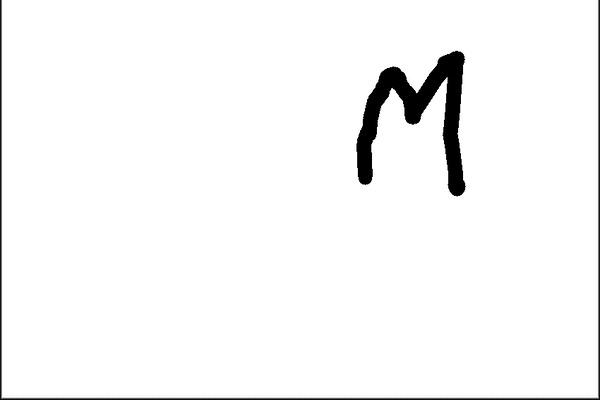M: (357, 49, 472, 194)
